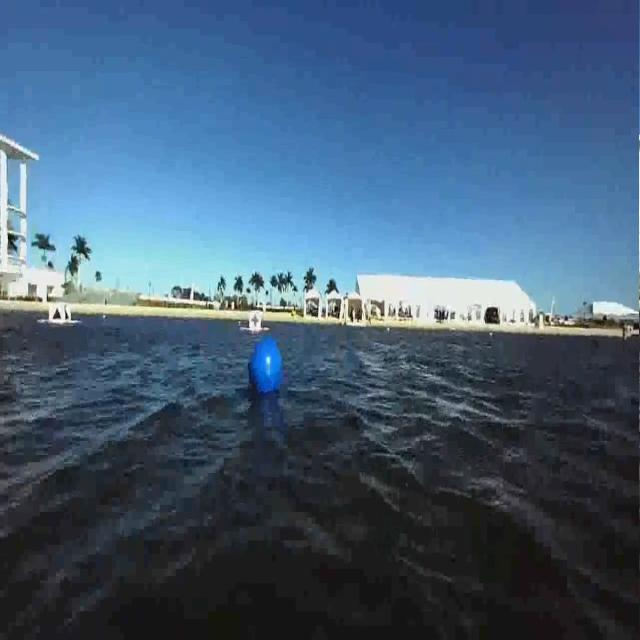blue-buoy: (248, 337, 284, 400)
